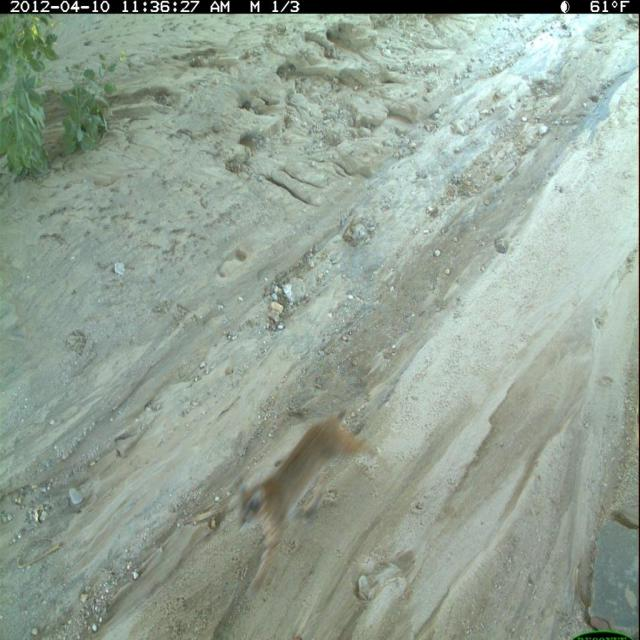bobcat: (234, 402, 391, 607)
